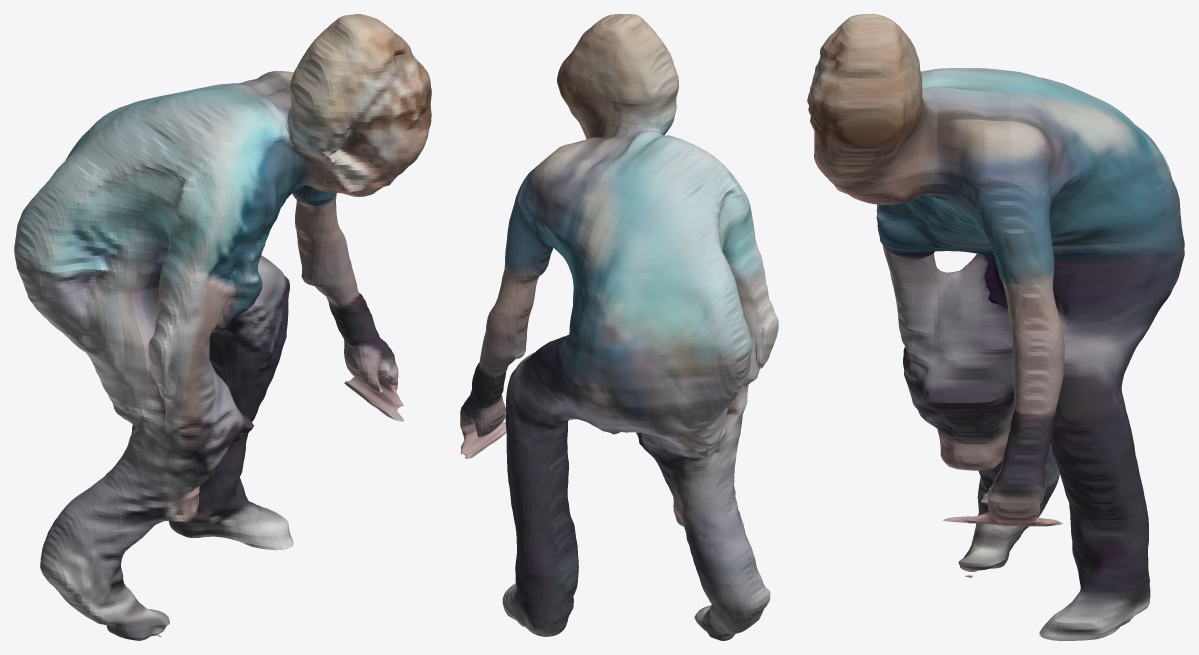
The model's file is 0001_tex.glb.
3 views of the same model, side by side, from view 1: azimuth 30°, elevation 25°; view 2: azimuth 150°, elevation 25°; view 3: azimuth 270°, elevation 25° (orthographic). The views are drawn at different scales.
Visible parts, largest first — view 1: 0001_tex.obj; view 2: 0001_tex.obj; view 3: 0001_tex.obj.
Part boxes in pixels (bbox=[...]): 0001_tex.obj: bbox=[14, 14, 431, 640]; 0001_tex.obj: bbox=[460, 14, 778, 640]; 0001_tex.obj: bbox=[807, 14, 1184, 640].
Bounding box in the file's own units: 0.5025 × 0.8659 × 0.4678.
